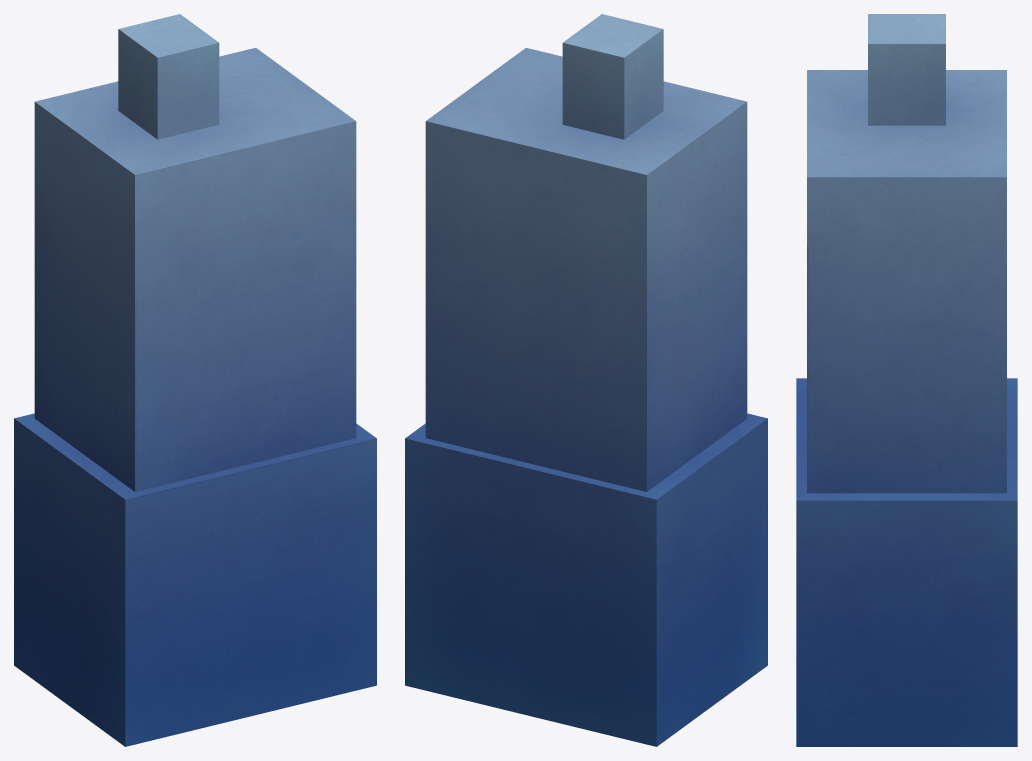
The model's file is Palace_3.glb.
The picture shows the model from 3 angles, left to right: view 1: azimuth 30°, elevation 25°; view 2: azimuth 150°, elevation 25°; view 3: azimuth 270°, elevation 25°; orthographic projection.
Visible parts, largest first — view 1: Palace_3; view 2: Palace_3; view 3: Palace_3.
Part boxes in pixels (x1=…): Palace_3: x1=14, y1=14, x2=376, y2=746; Palace_3: x1=405, y1=14, x2=767, y2=746; Palace_3: x1=796, y1=14, x2=1017, y2=746.
Bounding box in the file's own units: 0.8977 × 2.2 × 0.6871.
Materials: 1 (1 with a texture image).
